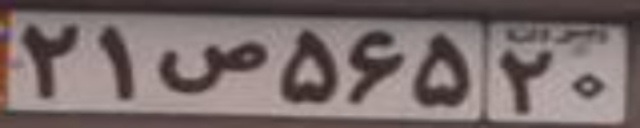0: (563, 72, 609, 98)
1: (86, 22, 140, 100)
2: (17, 21, 83, 99), (498, 48, 552, 117)
5: (275, 33, 344, 101), (410, 35, 473, 106)
6: (348, 31, 405, 104)
saat: (156, 38, 267, 95)
